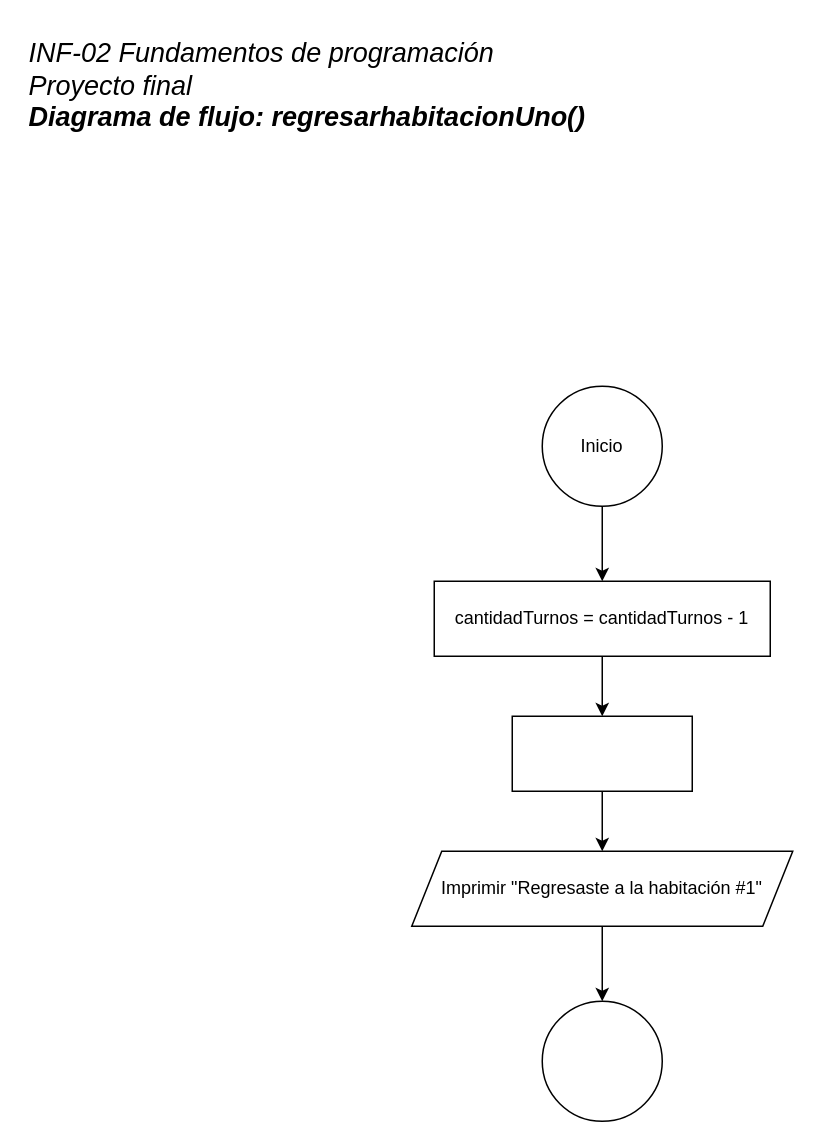
Some shapes in this 819 by 1148 pixel diagram are drawn without their labels. Each missing label, with the centre of its shape:
"Fin" goes at (601,1060).
"ubicacionMapa = 1" goes at (601,753).
